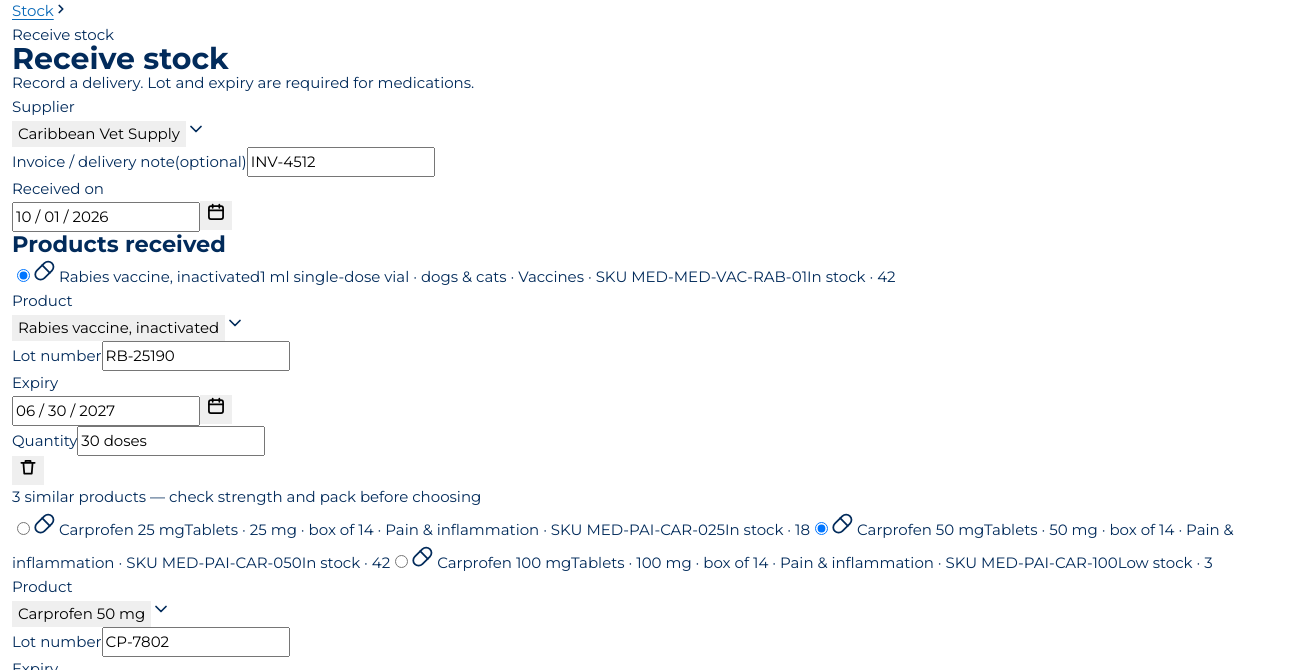
Test case: ReceiveStock › lets the user pick another strength, remove the line with the error and save
Click the radio button labelled "Carprofen 100 mg": {"x": 402, "y": 562} [395, 555, 408, 568]
(page scrolled)
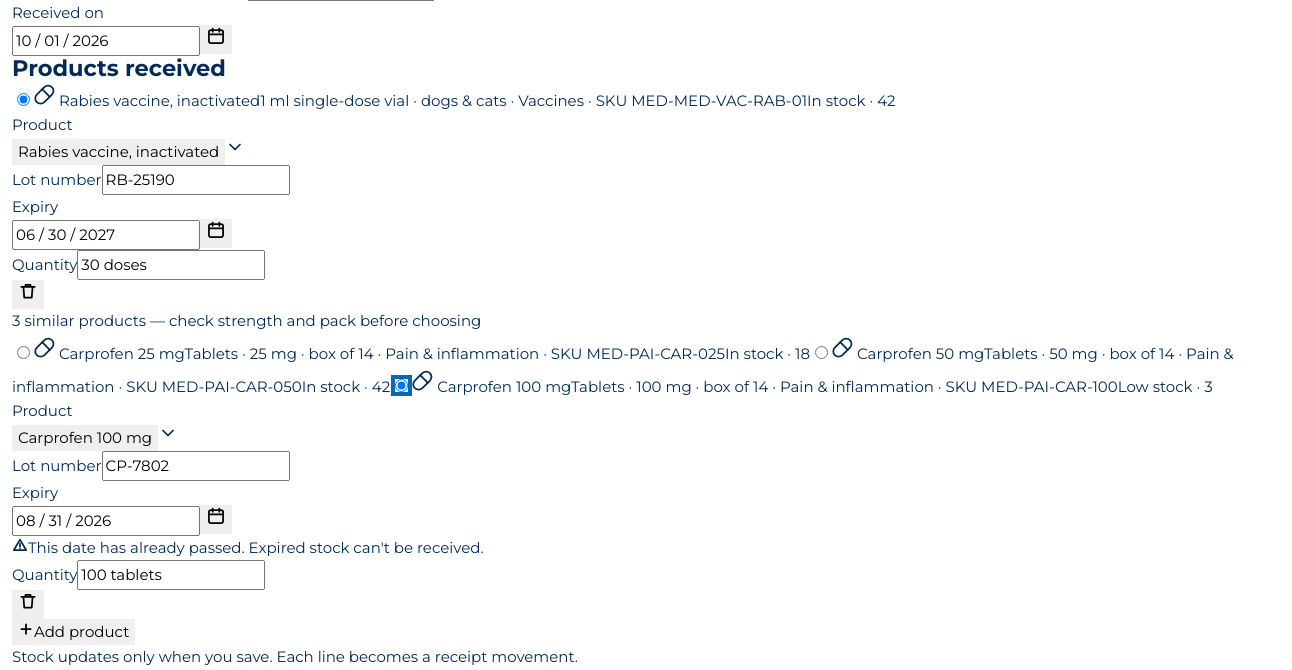
Now the radio button labelled "Carprofen 100 mg" is checked, box [395, 379, 408, 392]
Click the button named "Remove product" below "Carprofen 25 mg": {"x": 28, "y": 604} [12, 590, 44, 619]
(page scrolled)
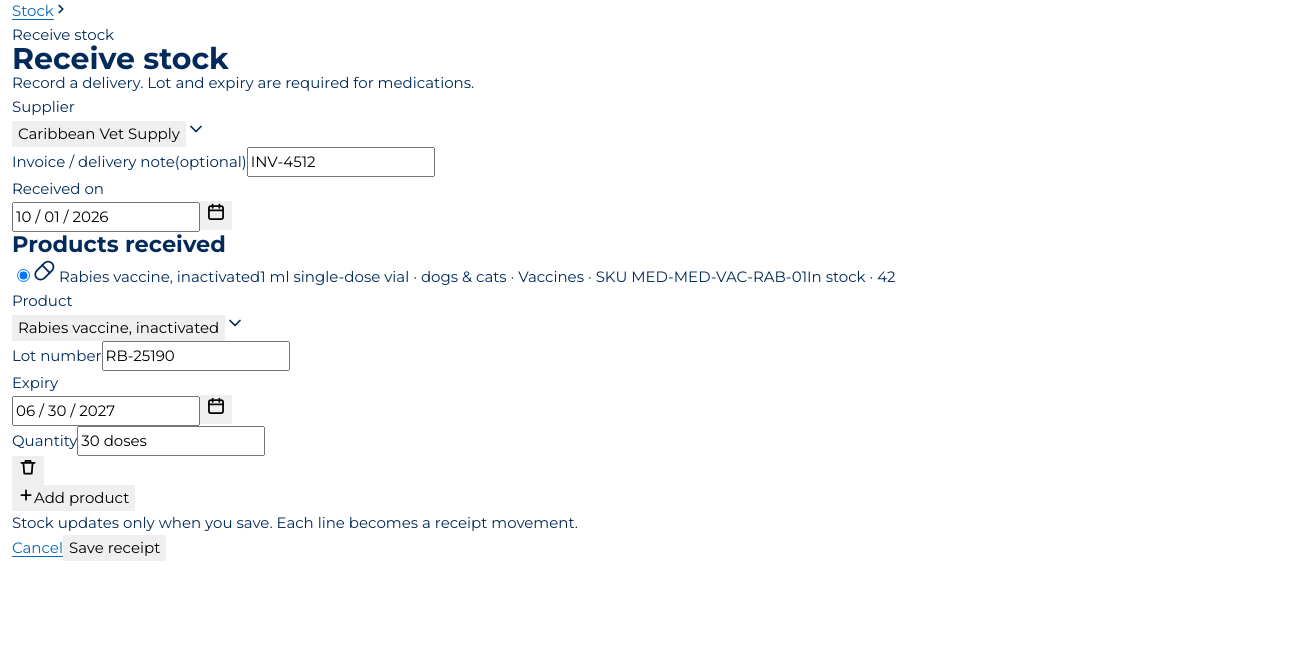
Now the button "Save receipt" is enabled
Click the button "Save receipt": {"x": 115, "y": 548} [63, 535, 166, 561]
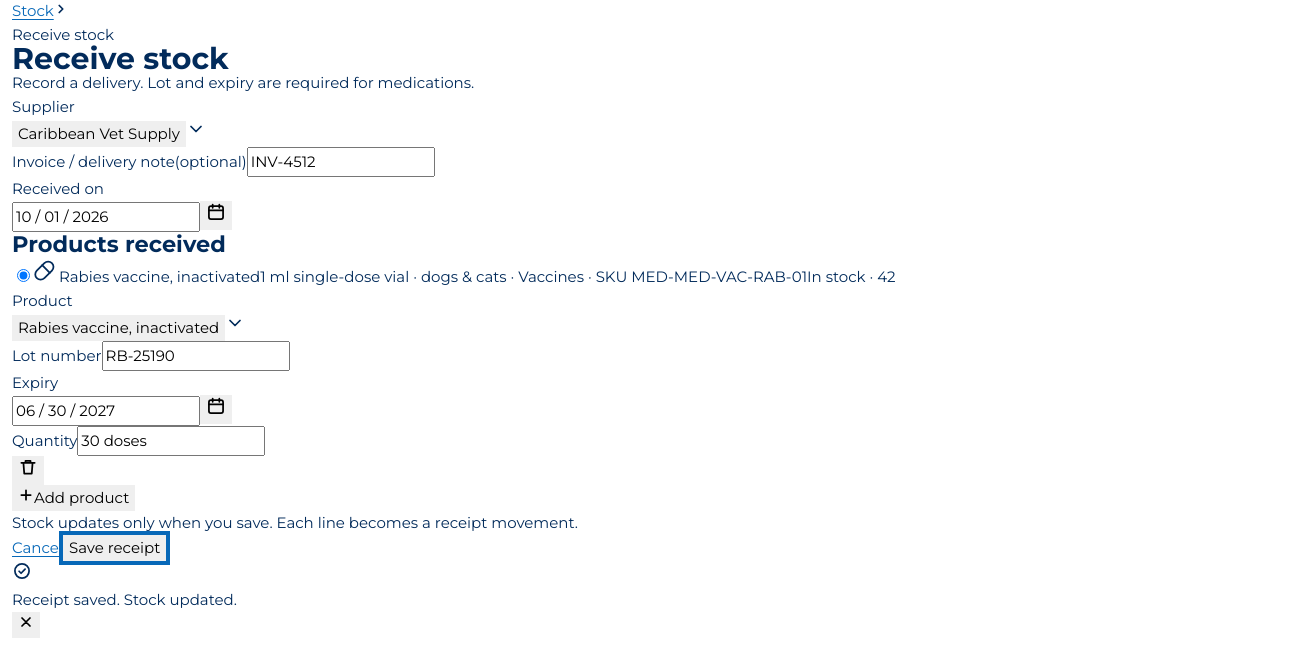
Now the text "Receipt saved. Stock updated." is shown, box [12, 590, 237, 609]
